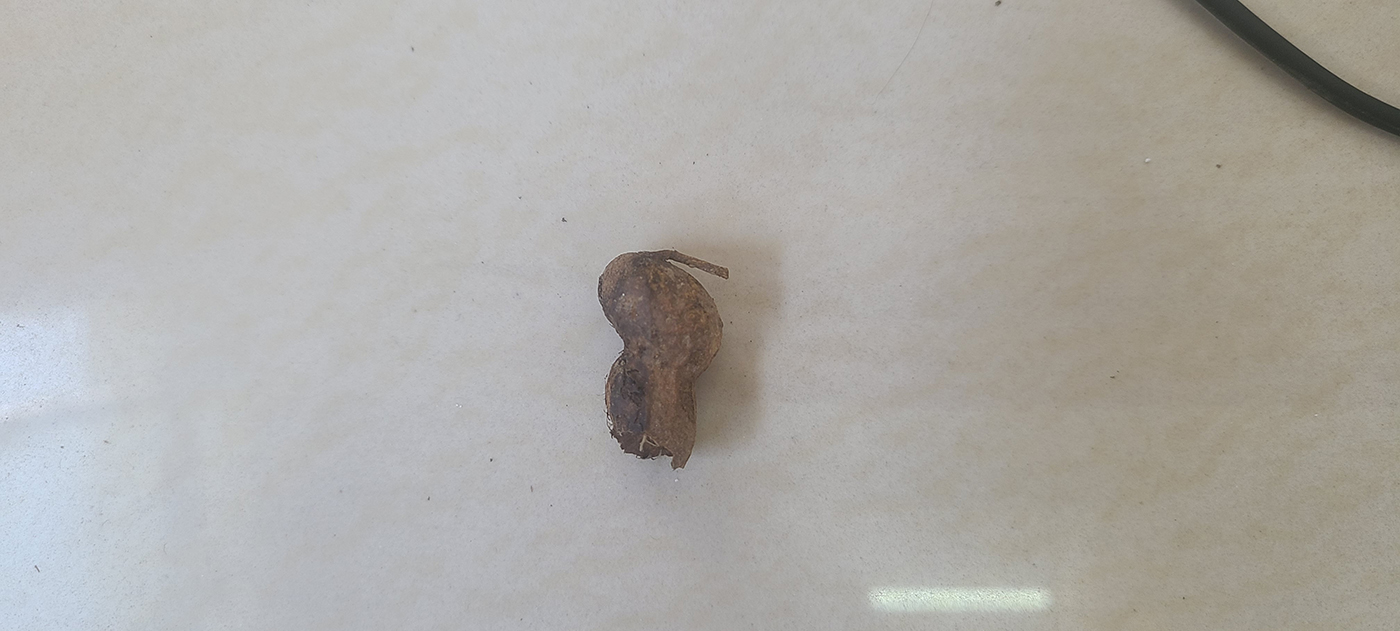l: (596, 250, 733, 475)
